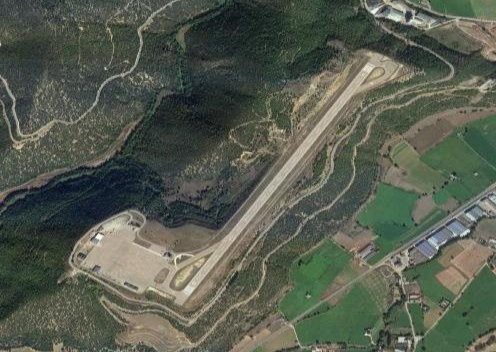airport: (69, 52, 400, 307)
